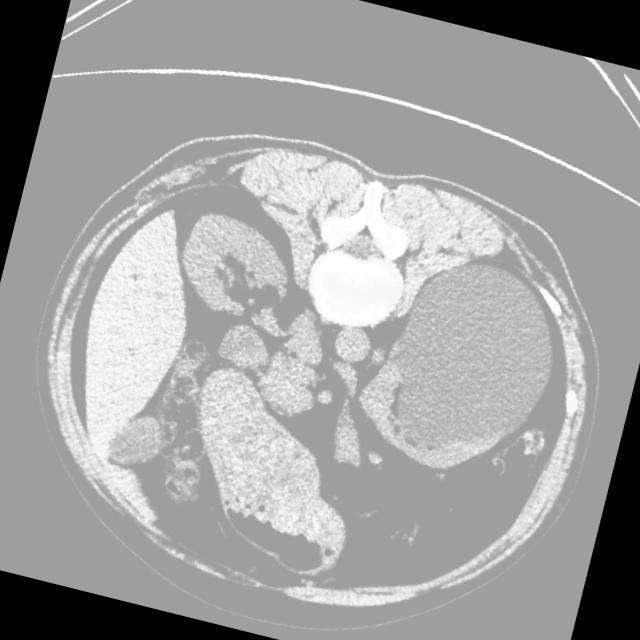cysts: (0, 92, 632, 640)
